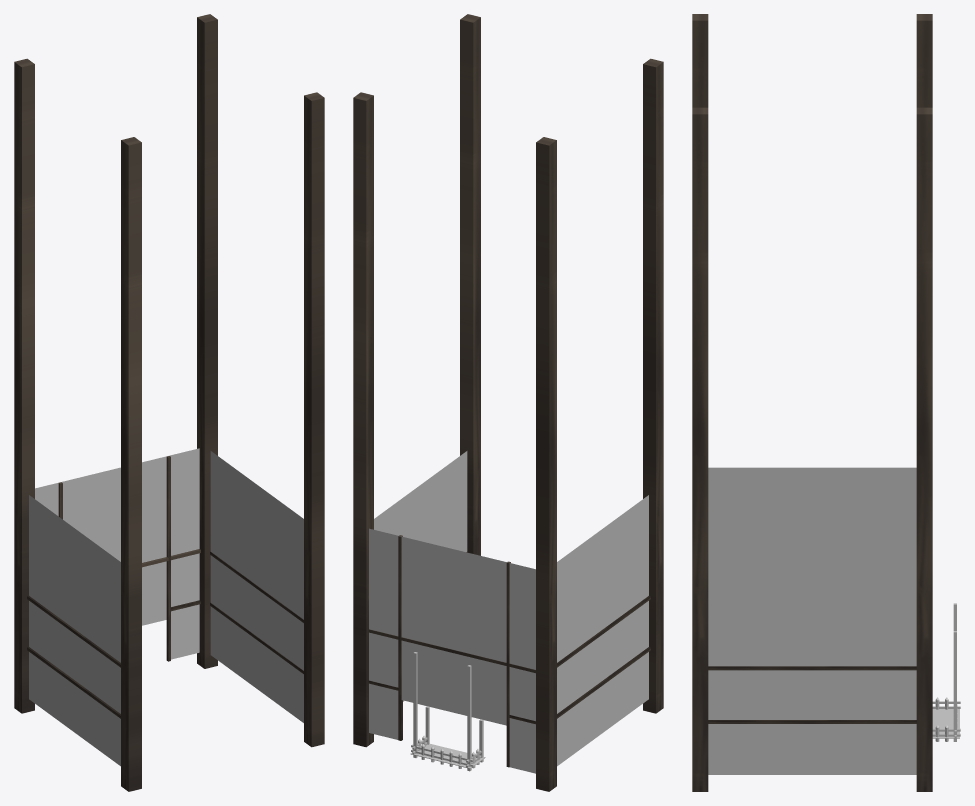
Rendered from kabe.fbx.
The picture shows the model from 3 angles, left to right: view 1: azimuth 30°, elevation 25°; view 2: azimuth 150°, elevation 25°; view 3: azimuth 270°, elevation 25°; orthographic projection. The views are drawn at different scales.
Parts seen in each view (by area): view 1: hasira1, kabe3, kabe2, kabe1, hasira2, hasira3, kabe_ki; view 2: kabe1, hasira1, kabe2, hasira3, hasira2, kabe3, kabe_ki, odoriba1; view 3: kabe3, kabe2, hasira1, hasira2, kabe_ki, hasira3, odoriba1.
Part boxes in pixels (x1,y1,x2,y2): hasira1: (14,14,217,713); kabe3: (210,451,303,722); kabe2: (29,495,120,766); kabe1: (35,448,199,659); hasira2: (304,92,324,747); hasira3: (121,137,141,791); kabe_ki: (27,456,303,718); kabe1: (369,528,535,773); hasira1: (353,92,556,791); kabe2: (557,495,648,766); hasira3: (643,58,663,713); hasira2: (460,14,480,555); kabe3: (374,451,467,701); kabe_ki: (368,535,650,767); odoriba1: (410,652,485,771); kabe3: (708,560,916,774); kabe2: (708,467,916,560); hasira1: (916,14,932,791); hasira2: (692,107,708,791); kabe_ki: (708,666,916,723); hasira3: (692,14,708,107); odoriba1: (932,603,960,741).
Size of the model in its own units: 1979 by 6237 by 2237.
